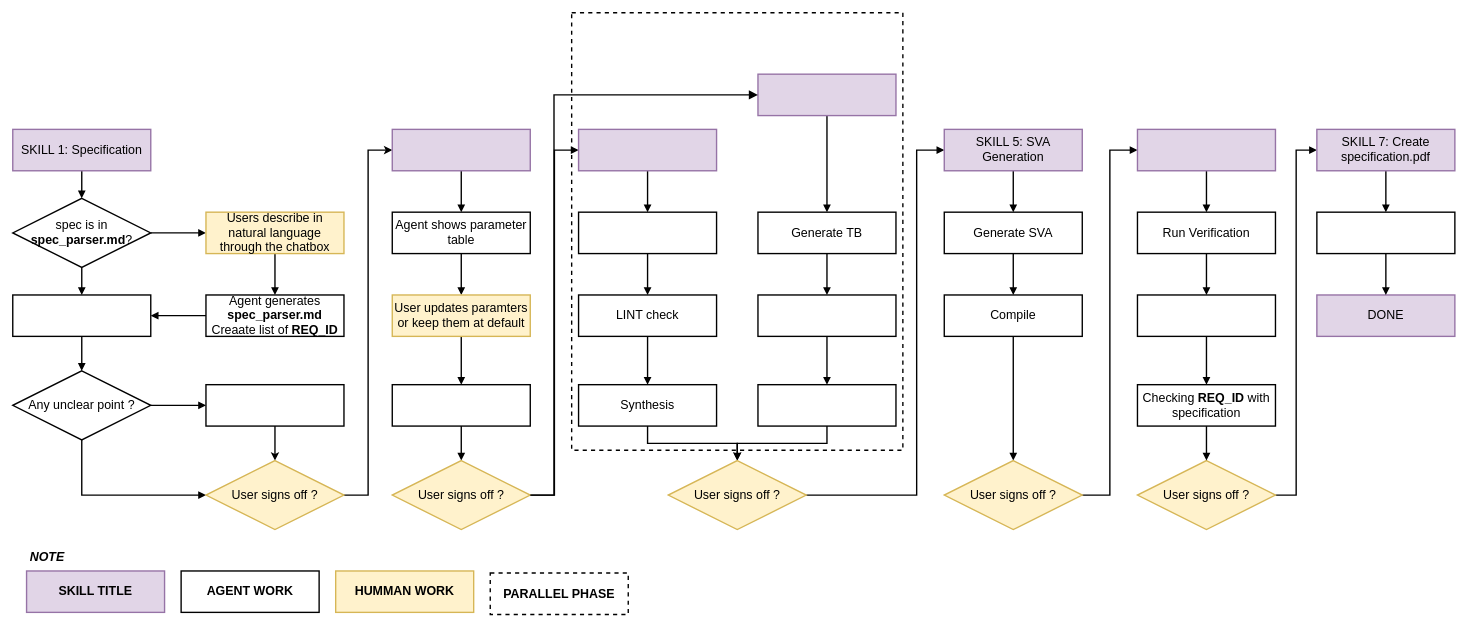
This 1467x627 diagram has some shape labels left out. Here are the shapes that lost their labels. From the top down, the box of each, then its label:
(757, 73, 896, 116): SKILL 4: TB Generation
(391, 128, 531, 171): SKILL 2: Configure Parameter
(578, 128, 717, 171): SKILL 3A: RTL Generation
(1136, 128, 1276, 171): SKILL 6: Verification
(578, 211, 717, 254): Generate RTL
(571, 12, 903, 451): Parallel phases 2 Agents can be called to work
(1316, 211, 1455, 254): Generate PDF file
(12, 294, 151, 337): Agent read the spec_parser.md
(757, 294, 896, 337): Generate TC
(1136, 294, 1276, 337): Mutation testing (YOSYS)
(205, 384, 344, 426): Agent can ask user to update spec or explain
(391, 384, 531, 426): Agent locks parameters
(757, 384, 896, 426): Generate Test Plan
